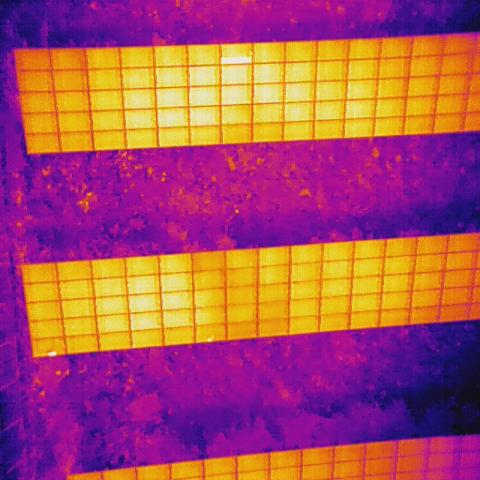fault: (221, 57, 253, 63), (46, 350, 58, 358), (208, 336, 214, 344)
